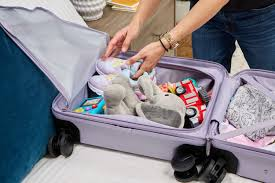suitcase: (52, 46, 275, 183)
